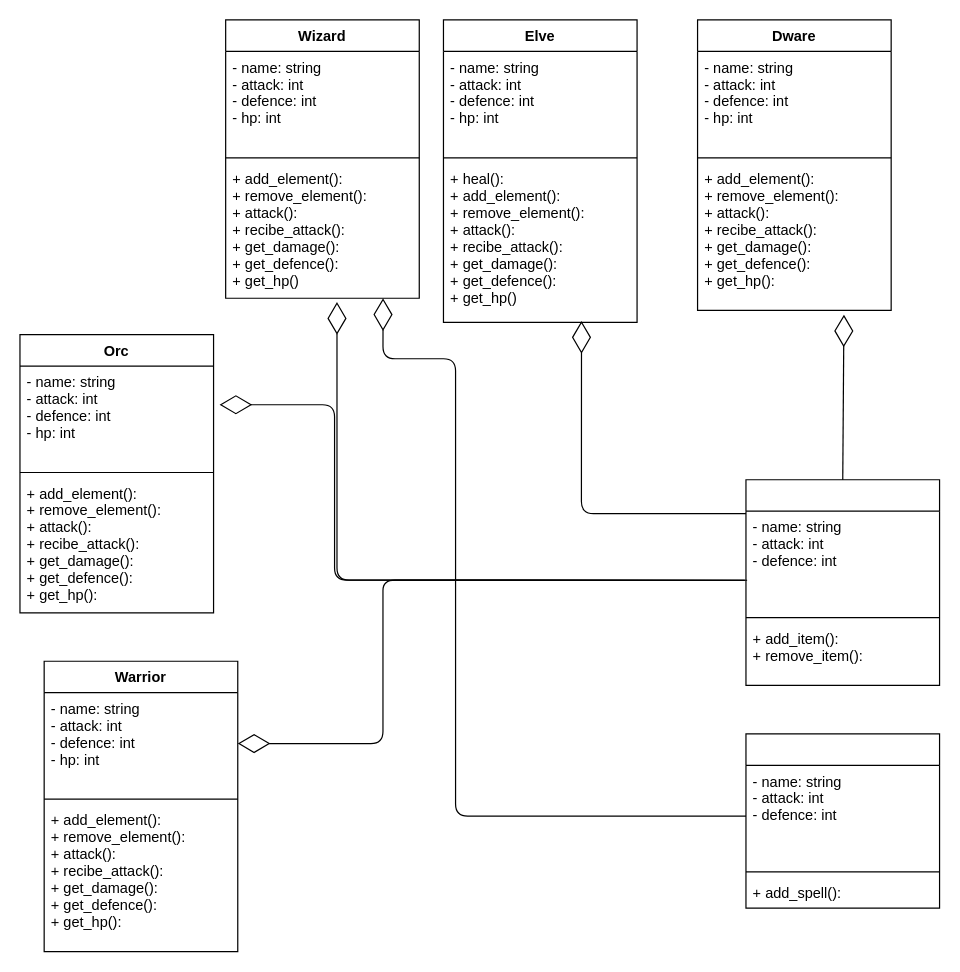
Image size: 960x972. Some labels were removed from this diagram. Here are the shapes that lost their labels. From the top down, the box of each, then its label:
(745, 479, 940, 685): Element
(745, 733, 940, 908): Magicbook
